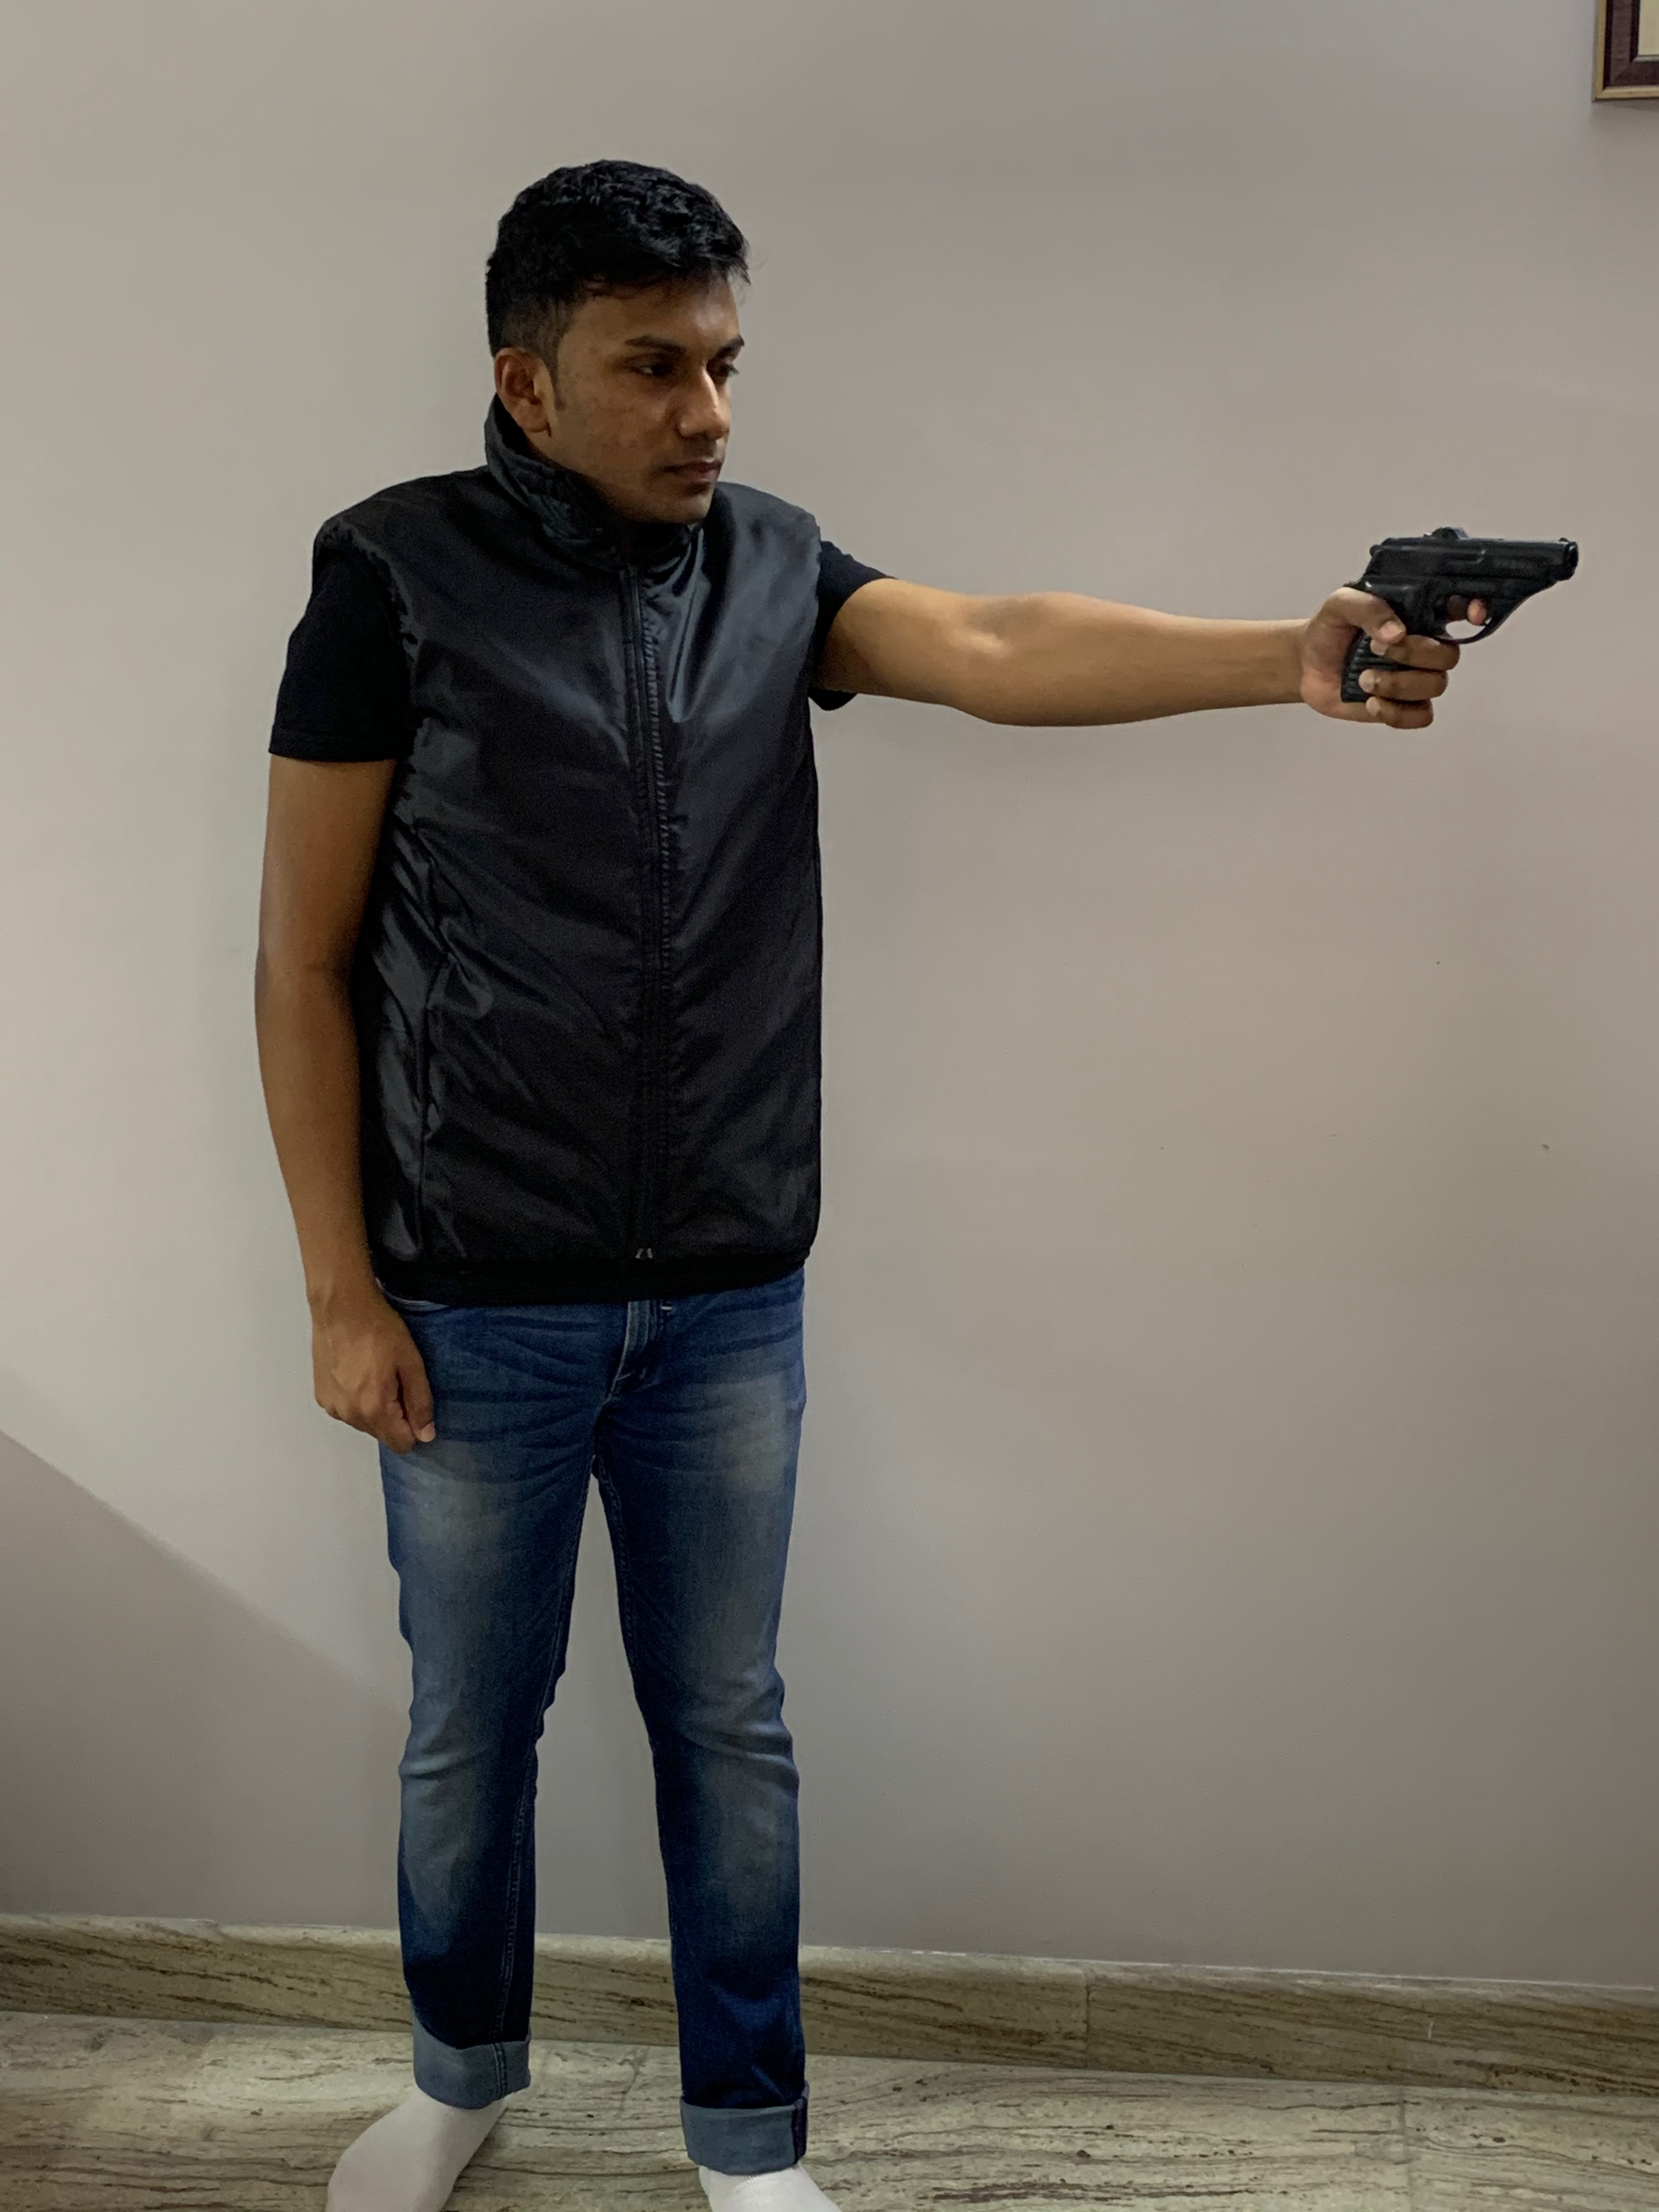gun: (1338, 523, 1581, 711)
